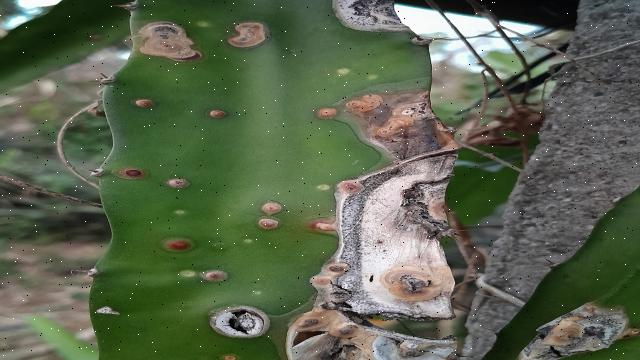stemcanker: (79, 1, 289, 299)
